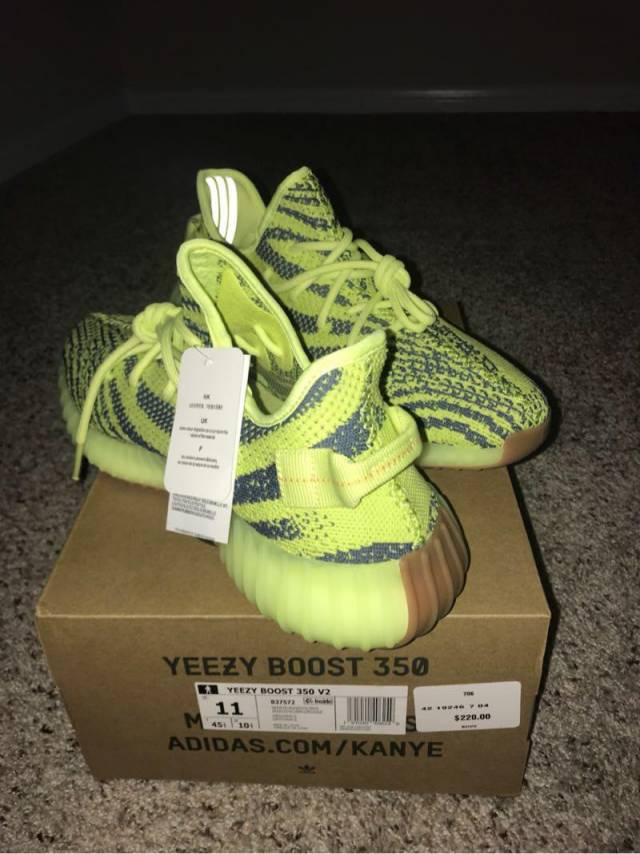Yeezy Semi-Frozen: (26, 238, 489, 672), (167, 147, 577, 488)
